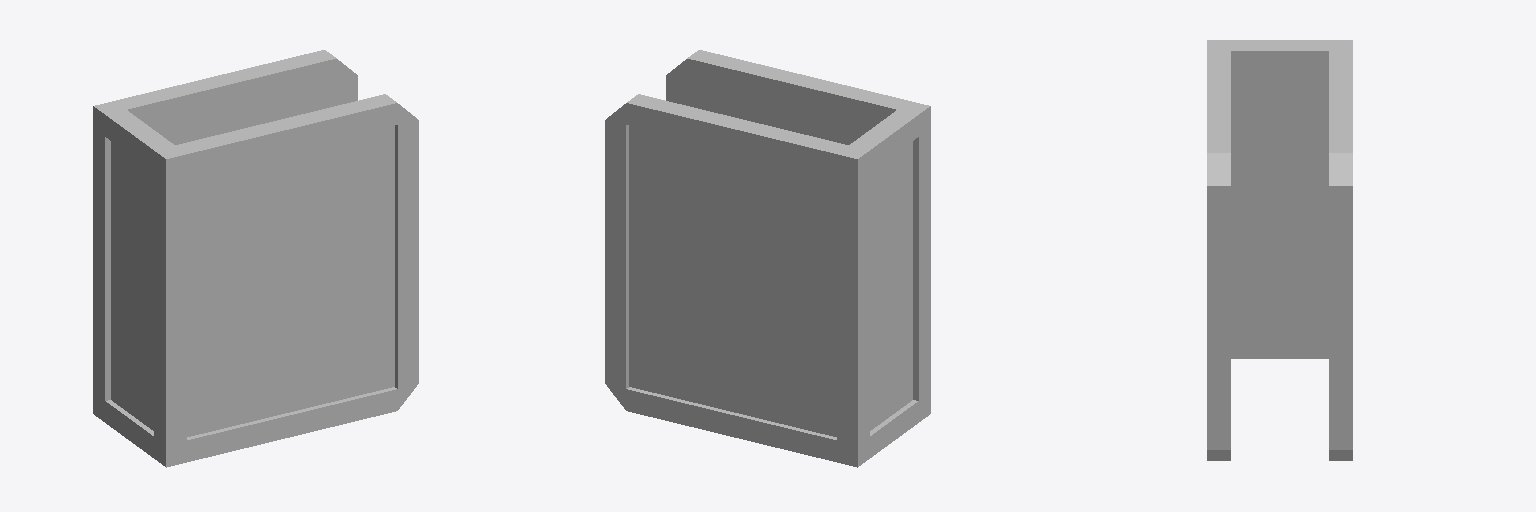
File: spellbook_closed_tint.obj
3 renders of one model, left to right at view 1: azimuth 30°, elevation 25°; view 2: azimuth 150°, elevation 25°; view 3: azimuth 270°, elevation 25°, orthographic.
Visible parts, largest first — view 1: COVER_FRONT_VAR1_CLOSED_Cube.003, COVER_BACK_VAR1_CLOSED_Cube.007, SPINE_VAR1_CLOSED_Cube.004; view 2: COVER_BACK_VAR1_CLOSED_Cube.007, SPINE_VAR1_CLOSED_Cube.004, COVER_FRONT_VAR1_CLOSED_Cube.003; view 3: SPINE_VAR1_CLOSED_Cube.004, COVER_BACK_VAR1_CLOSED_Cube.007, COVER_FRONT_VAR1_CLOSED_Cube.003.
Boxes of the visible parts, box(x1,y1,x2,y2) form: COVER_FRONT_VAR1_CLOSED_Cube.003: box(154, 94, 418, 467); COVER_BACK_VAR1_CLOSED_Cube.007: box(93, 50, 357, 421); SPINE_VAR1_CLOSED_Cube.004: box(105, 110, 186, 457); COVER_BACK_VAR1_CLOSED_Cube.007: box(605, 94, 869, 467); SPINE_VAR1_CLOSED_Cube.004: box(850, 110, 930, 457); COVER_FRONT_VAR1_CLOSED_Cube.003: box(666, 50, 930, 421); SPINE_VAR1_CLOSED_Cube.004: box(1231, 40, 1328, 358); COVER_BACK_VAR1_CLOSED_Cube.007: box(1329, 40, 1352, 460); COVER_FRONT_VAR1_CLOSED_Cube.003: box(1207, 40, 1230, 460).
Size of the model in its own units: 0.75 by 0.875 by 0.375.